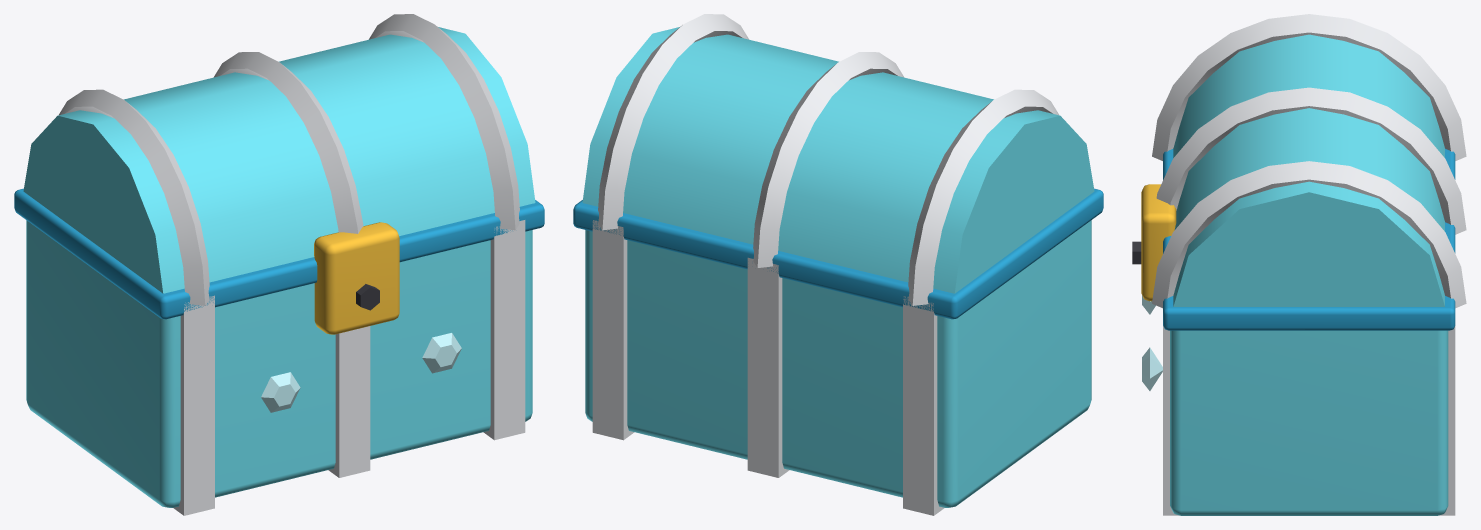
File: DiamondChest.fbx
The picture shows the model from 3 angles, left to right: view 1: azimuth 30°, elevation 25°; view 2: azimuth 150°, elevation 25°; view 3: azimuth 270°, elevation 25°; orthographic projection. The views are drawn at different scales.
Parts seen in each view (by area): view 1: DiamondChest; view 2: DiamondChest; view 3: DiamondChest.
Boxes of the visible parts, box(x1,y1,x2,y2) form: DiamondChest: box(14, 14, 544, 515); DiamondChest: box(573, 14, 1103, 515); DiamondChest: box(1132, 14, 1466, 515).
Size of the model in its own units: 3.1 by 2.75 by 2.4.
Materials: 1 (1 with a texture image).
